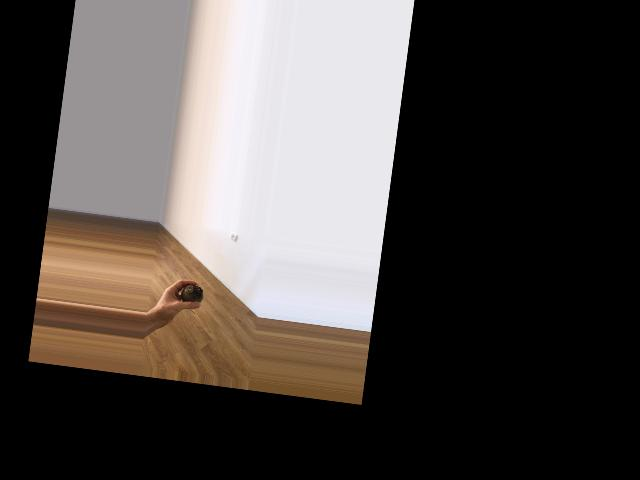beet: (179, 282, 204, 314)
